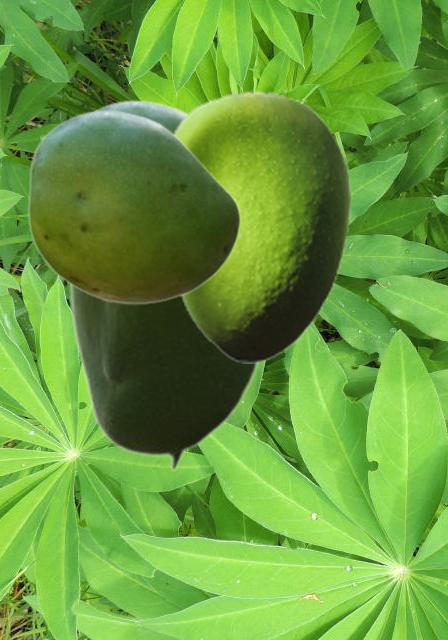green_mango: (170, 90, 351, 362), (27, 109, 240, 304), (67, 284, 262, 471), (96, 99, 186, 129)
